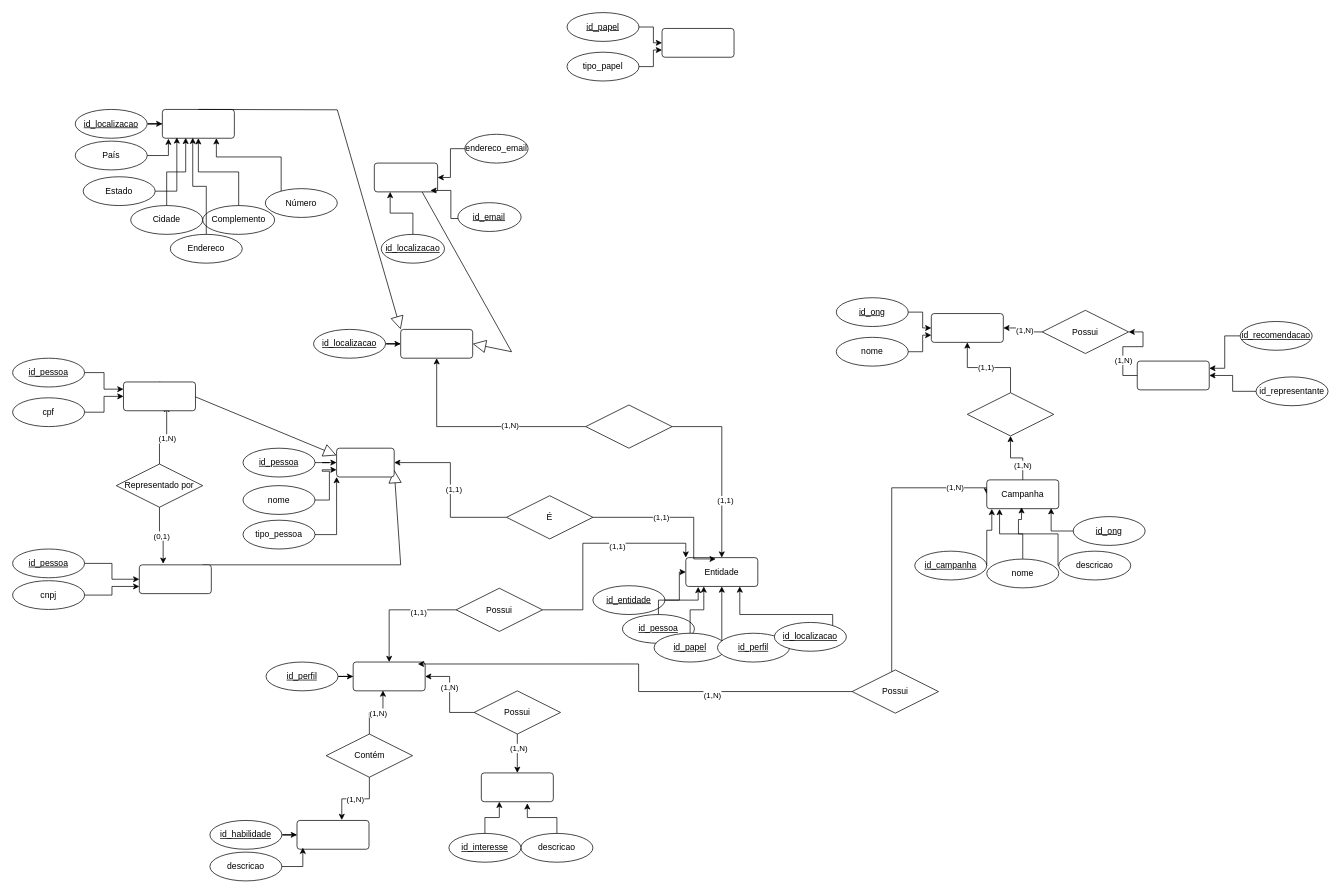
The diagram is 1341 pixels wide and 894 high, and some of its shapes have lost their labels. Each missing label, with the centre of its shape:
"Abre" belongs at point (1010, 414).
"Email" belongs at point (406, 177).
"Física" belongs at point (159, 396).
"Geográfica" belongs at point (198, 123).
"Habilidade" belongs at point (332, 834).
"Interesse" belongs at point (517, 787).
"Jurídica" belongs at point (175, 579).
"Localizacao" belongs at point (436, 343).
"ONG" belongs at point (967, 327).
"Papel" belongs at point (697, 42).
"Perfil" belongs at point (388, 676).
"Pessoa" belongs at point (365, 462).
"Recomendacao" belongs at point (1173, 375).
"Relationship" belongs at point (628, 426).
